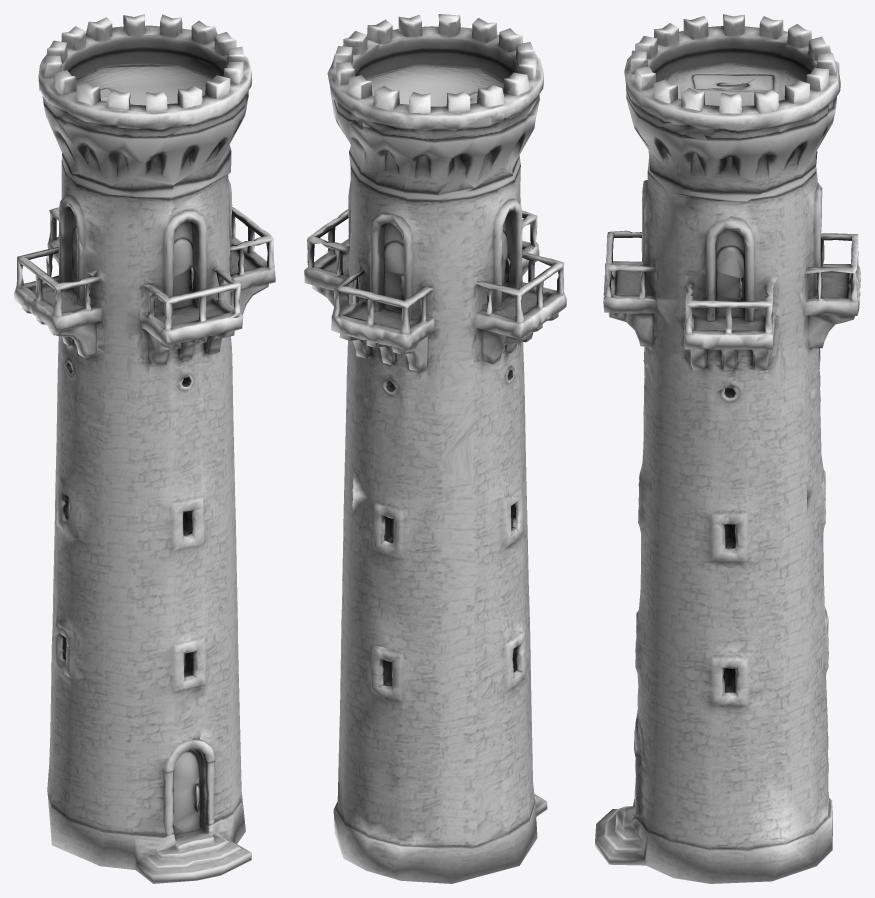
File: Tower.fbx
The picture shows the model from 3 angles, left to right: view 1: azimuth 30°, elevation 25°; view 2: azimuth 150°, elevation 25°; view 3: azimuth 270°, elevation 25°; orthographic projection.
Visible parts, largest first — view 1: Medieval tower_low; view 2: Medieval tower_low; view 3: Medieval tower_low.
Part boxes in pixels (x1,y1,x2,y2): Medieval tower_low: (14, 14, 275, 883); Medieval tower_low: (304, 14, 566, 883); Medieval tower_low: (595, 14, 860, 883).
Size of the model in its own units: 716 by 739 by 2412.
